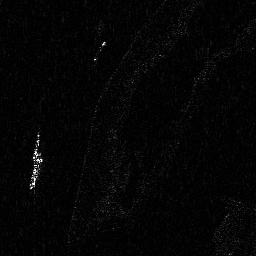ship: (28, 148, 43, 190)
